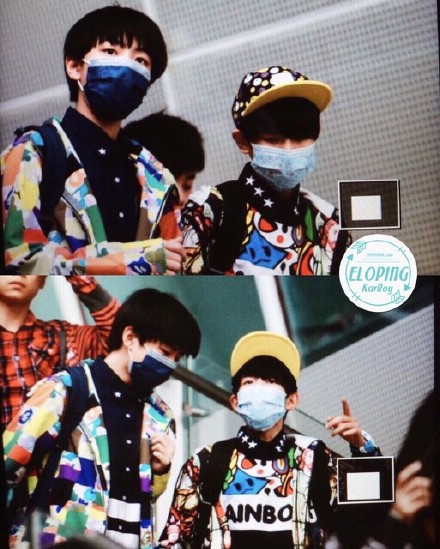face: (1, 241, 41, 299)
face_mask: (84, 24, 153, 113), (256, 111, 310, 183), (237, 365, 282, 426), (134, 336, 183, 391)
